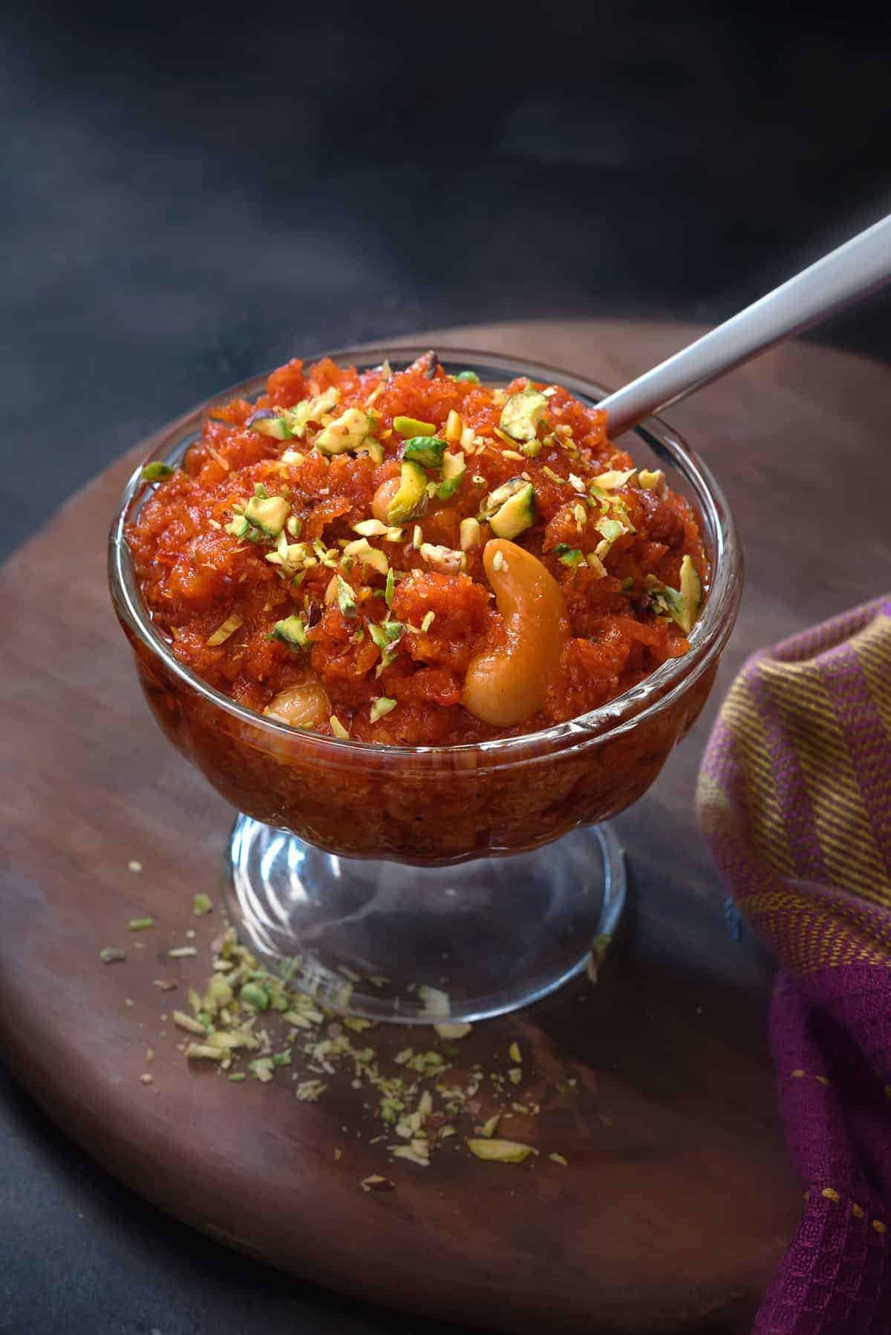Gajar ka halwa: (113, 307, 765, 995)
